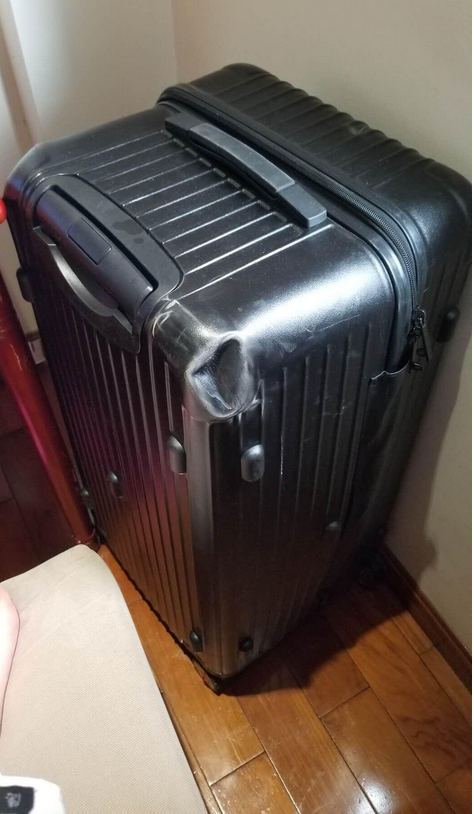hollow: (185, 333, 251, 419)
